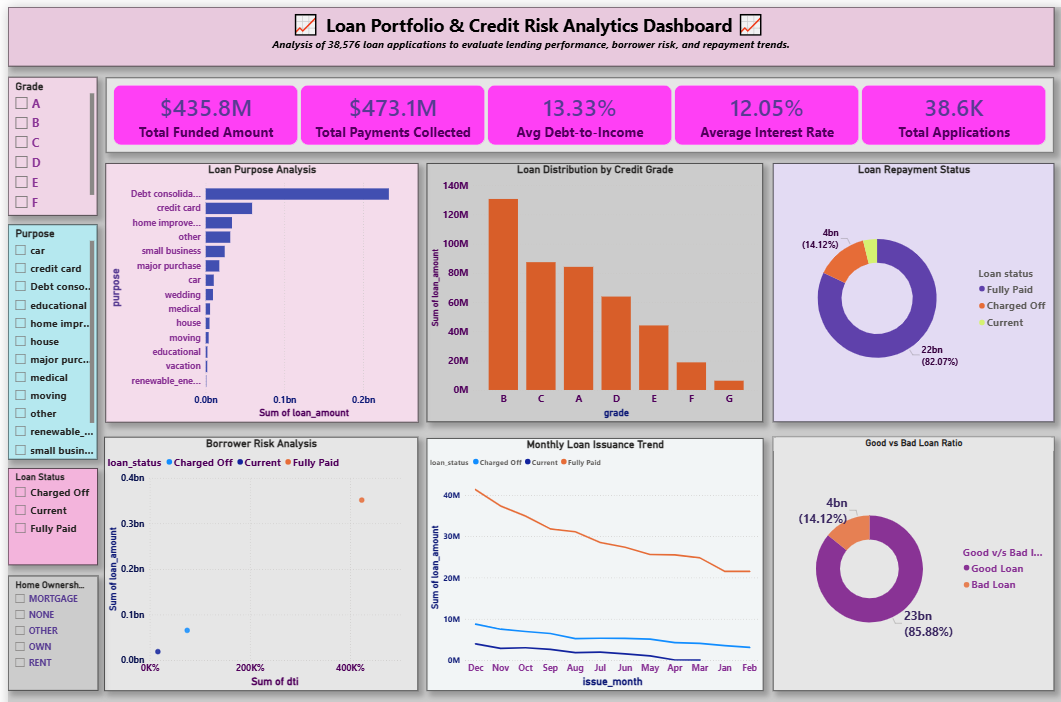

What the dashboard file says about the page in this screenshot:
{"tool":"powerbi","page":{"name":"Bank_loan_Analysis","canvas":[1920,1280],"ordinal":0},"visuals":[{"type":"cardVisual","fields":{"Data":["Bank_loan_data.Total Loan","Bank_loan_data.Total Payment","BANK LOAN PERFORMANCE DASHBOARD.Avg DTI","BANK LOAN PERFORMANCE DASHBOARD.Avg Interest","BANK LOAN PERFORMANCE DASHBOARD.Total Applications"]},"box":[177.3,127.3,1725,138.6],"z":0},{"type":"donutChart","title":"Loan Repayment Status","fields":{"Category":["Bank_loan_data.loan_status"],"Y":["Sum(Bank_loan_data.id)"]},"box":[1390.9,284.1,511.4,470.5],"z":1000},{"type":"clusteredColumnChart","title":"Loan Distribution by Credit Grade","fields":{"Category":["Bank_loan_data.grade"],"Y":["Sum(Bank_loan_data.loan_amount)"]},"box":[761.4,284.1,611.4,470.5],"z":2000},{"type":"clusteredBarChart","title":"Loan Purpose Analysis","fields":{"Category":["Bank_loan_data.purpose"],"Y":["Sum(Bank_loan_data.loan_amount)"]},"box":[177.1,283.3,568.8,470.8],"z":3000},{"type":"lineChart","title":"Monthly Loan Issuance Trend","fields":{"Category":["BANK LOAN PERFORMANCE DASHBOARD.issue_month"],"Series":["BANK LOAN PERFORMANCE DASHBOARD.loan_status"],"Y":["Sum(BANK LOAN PERFORMANCE DASHBOARD.loan_amount)"]},"box":[761.9,783.1,611.6,459.3],"z":4000},{"type":"scatterChart","title":"Borrower Risk Analysis","fields":{"Series":["Bank_loan_data.loan_status"],"X":["Sum(Bank_loan_data.dti)"],"Y":["Sum(Bank_loan_data.loan_amount)"]},"box":[175,781.8,570.5,461.4],"z":5000},{"type":"slicer","fields":{"Values":["Bank_loan_data.grade"]},"box":[0,127.1,162.5,252.1],"z":6000},{"type":"slicer","fields":{"Values":["Bank_loan_data.purpose"]},"box":[0,395.8,162.5,427.1],"z":7000},{"type":"slicer","fields":{"Values":["Bank_loan_data.loan_status"]},"box":[0,838.1,163,175.7],"z":8000},{"type":"slicer","fields":{"Values":["Bank_loan_data.home_ownership"]},"box":[0,1034.1,163.6,209.1],"z":9000},{"type":"textbox","box":[0,0,1902.1,108.3],"z":10000},{"type":"donutChart","title":"Good vs Bad Loan Ratio","fields":{"Category":["BANK LOAN PERFORMANCE DASHBOARD.Good v/s Bad loan"],"Y":["Sum(BANK LOAN PERFORMANCE DASHBOARD.id)"]},"box":[1390.9,781.8,511.4,461.4],"z":10002}]}

Visuals, with their boxes in screenshot pixels (x1, y1, x2, y2), scaled from the page's 1920x1280 canvas onto the 1061x702 screenshot:
cardVisual - Bank_loan_data.Total Loan x Bank_loan_data.Total Payment: (left=98, top=70, right=1051, bottom=146)
"Loan Repayment Status" donutChart: (left=769, top=156, right=1051, bottom=414)
"Loan Distribution by Credit Grade" clusteredColumnChart: (left=421, top=156, right=759, bottom=414)
"Loan Purpose Analysis" clusteredBarChart: (left=98, top=155, right=412, bottom=414)
"Monthly Loan Issuance Trend" lineChart: (left=421, top=429, right=759, bottom=681)
"Borrower Risk Analysis" scatterChart: (left=97, top=429, right=412, bottom=682)
slicer - Bank_loan_data.grade: (left=0, top=70, right=90, bottom=208)
slicer - Bank_loan_data.purpose: (left=0, top=217, right=90, bottom=451)
slicer - Bank_loan_data.loan_status: (left=0, top=460, right=90, bottom=556)
slicer - Bank_loan_data.home_ownership: (left=0, top=567, right=90, bottom=682)
textbox: (left=0, top=0, right=1051, bottom=59)
"Good vs Bad Loan Ratio" donutChart: (left=769, top=429, right=1051, bottom=682)
